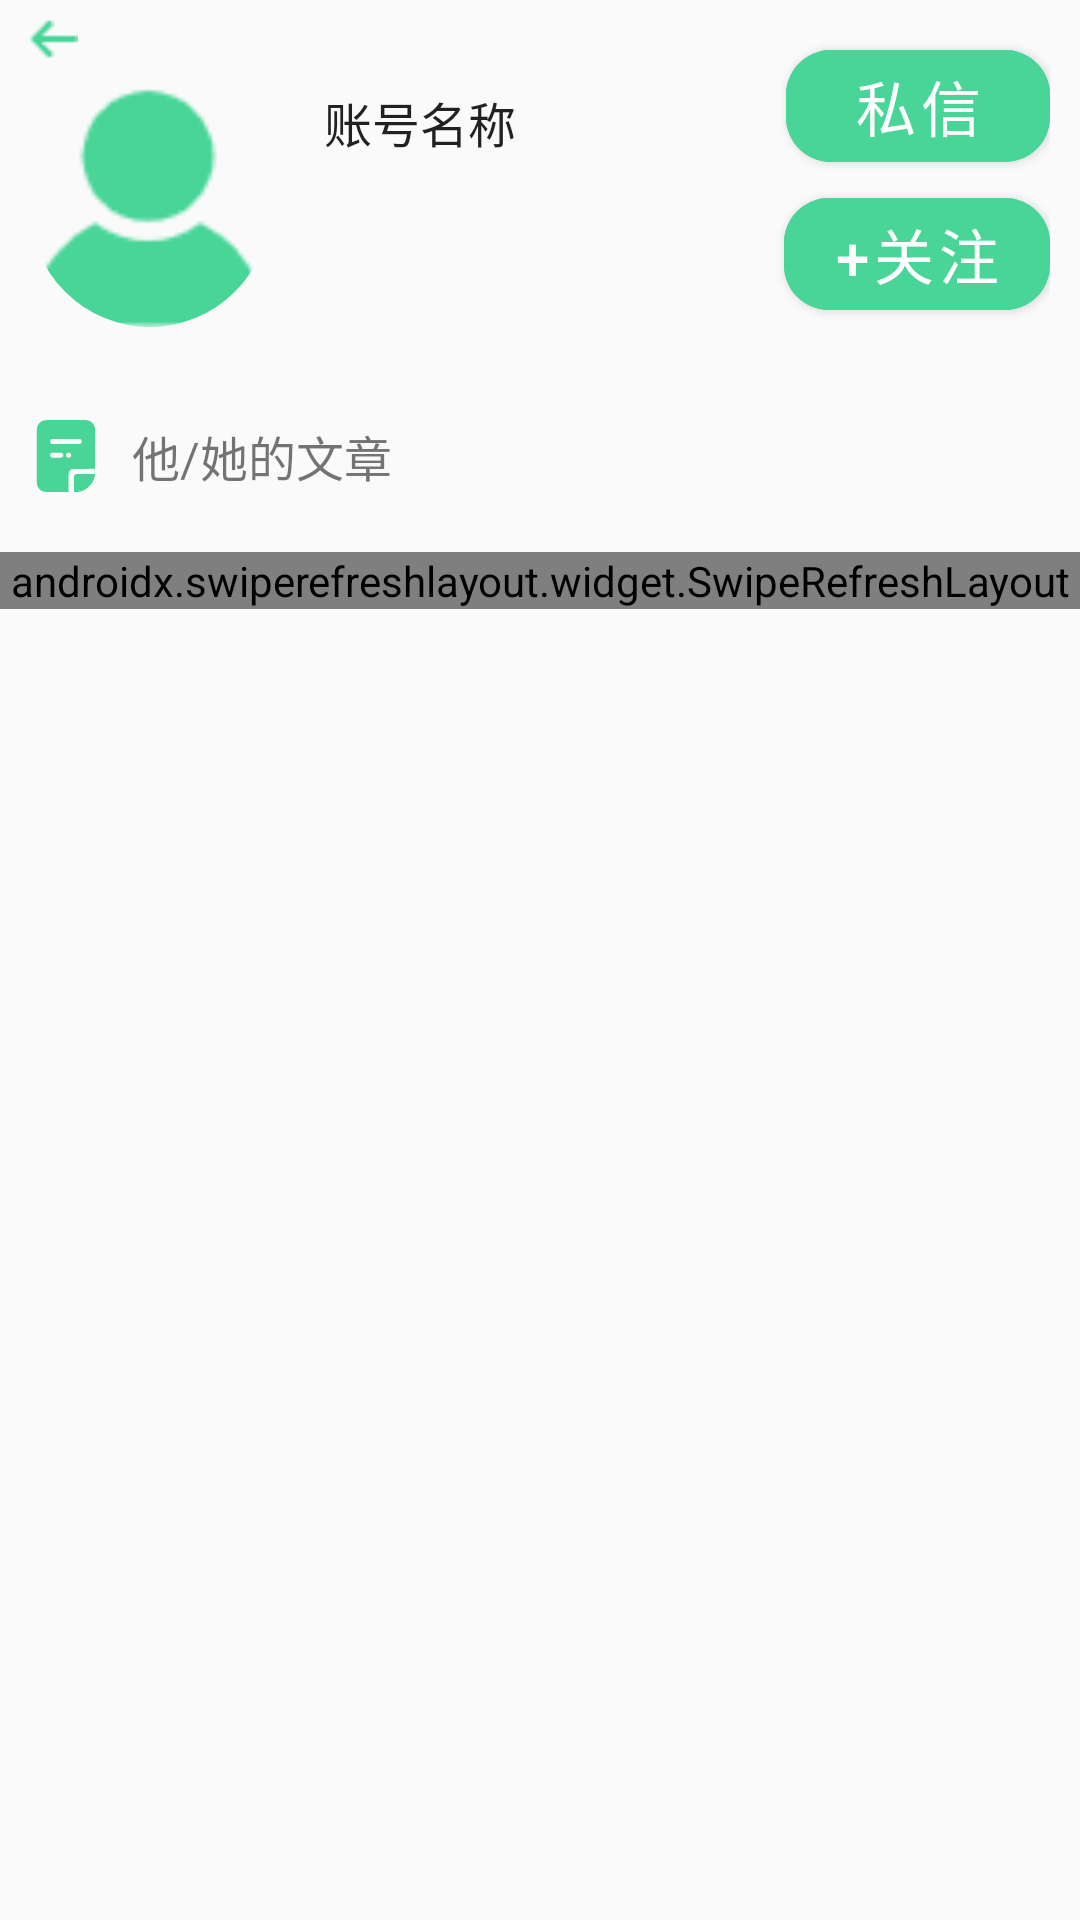

Named icons in this screenshot (1080 x 1920) and their bounding boxes, bbox(x1, y1, x2, y2):
article: bbox(36, 420, 95, 492)
back: bbox(30, 20, 78, 58)
head: bbox(46, 89, 253, 327)
